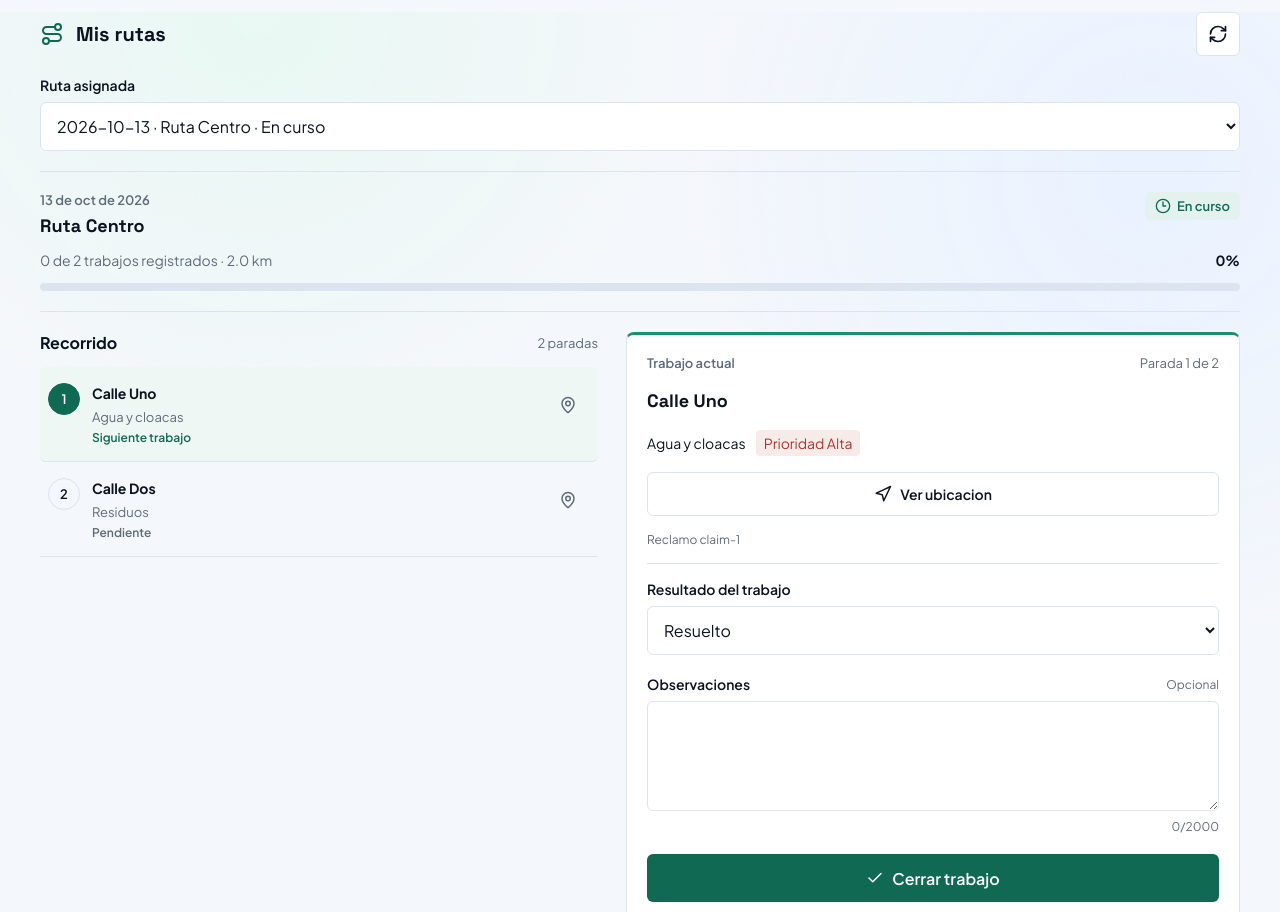
AgentRoutesPanel › recovers a saved stop after an error response without repeating the POST
Step 1. Click the button "Cerrar trabajo" → (933, 878), box [647,854,1219,902]
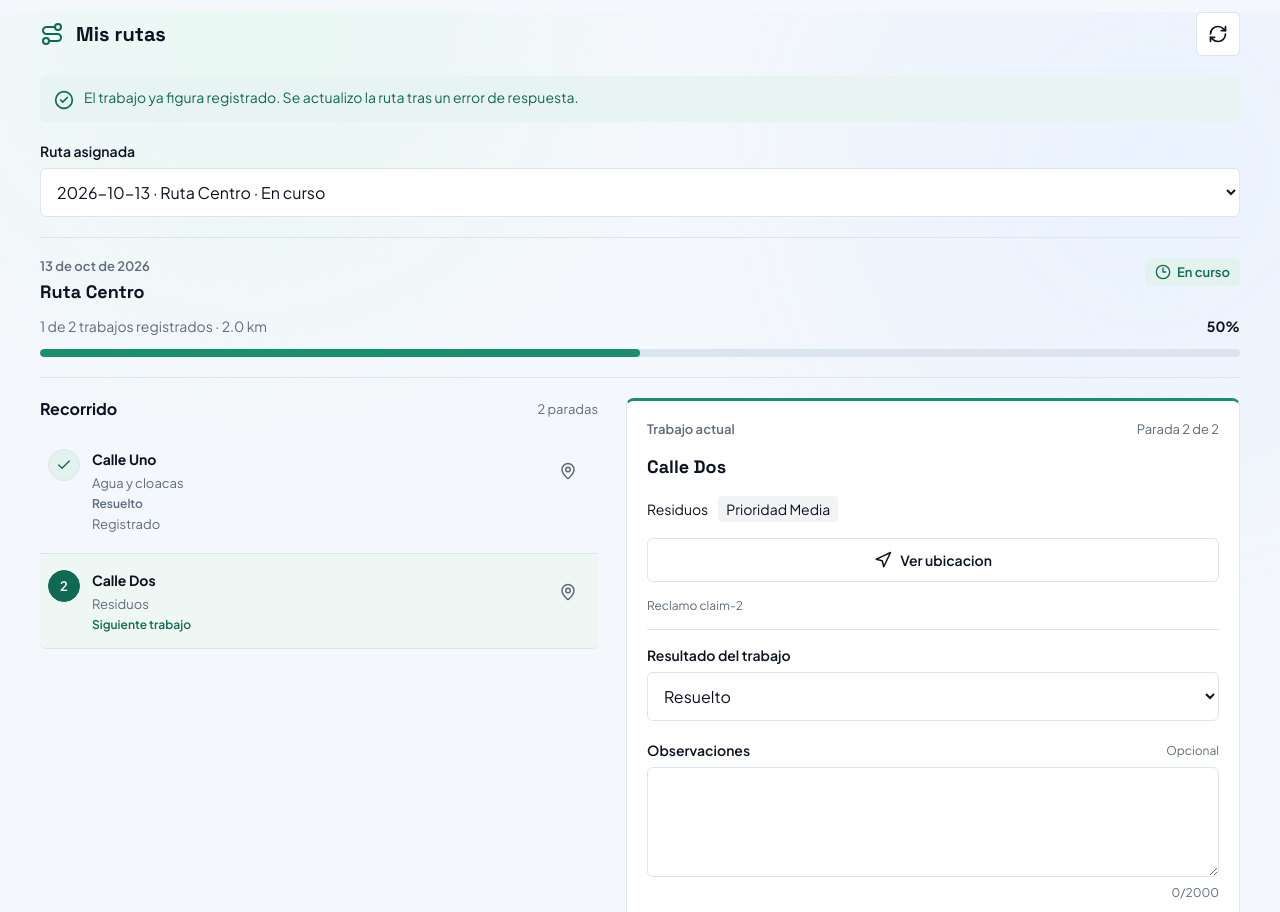
Expected: the text "El trabajo ya figura registrado. Se actualizo la ruta tras un error de respuesta." is shown, [84,88,578,106]
